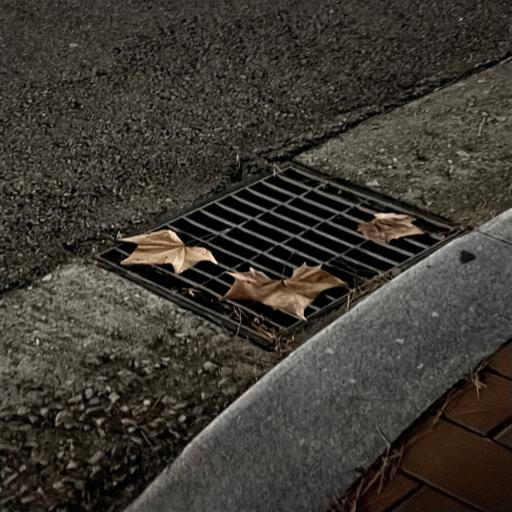debris: (218, 266, 347, 319), (122, 229, 211, 275), (357, 213, 425, 244), (256, 324, 276, 338), (363, 273, 385, 285)
drain: (102, 165, 465, 340)
